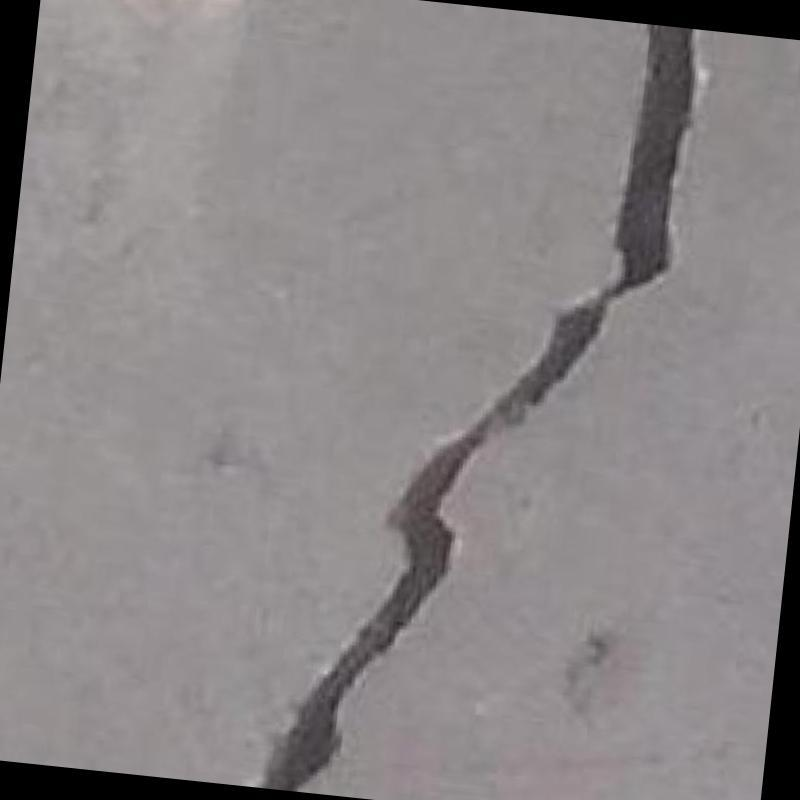pothole: (259, 24, 695, 790)
